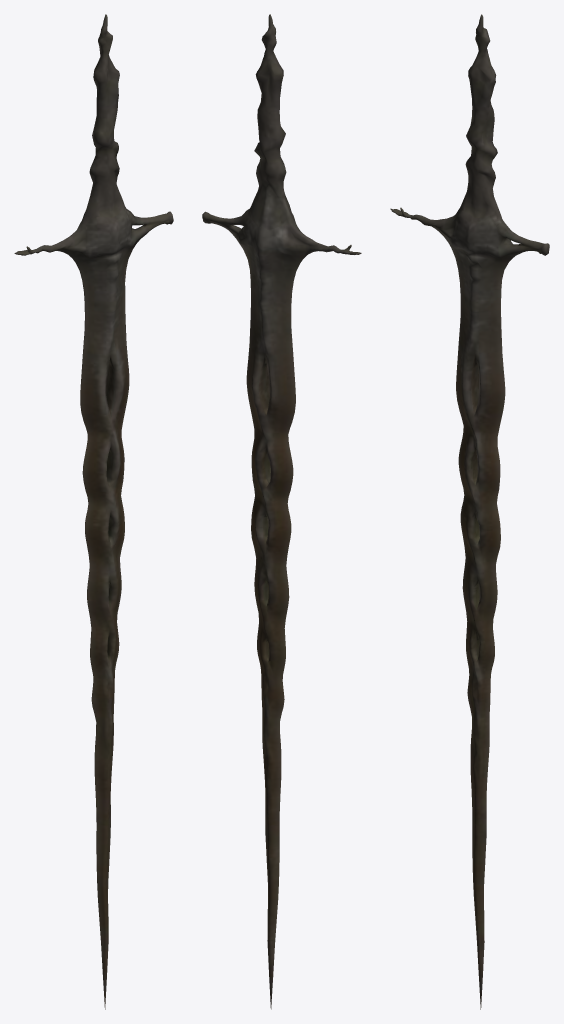
Rendered from weapon-wp_a_0618.glb.
3 views of the same model, side by side, from view 1: azimuth 30°, elevation 25°; view 2: azimuth 150°, elevation 25°; view 3: azimuth 330°, elevation 25° (orthographic).
Parts seen in each view (by area): view 1: wp_a_0618_mesh; view 2: wp_a_0618_mesh; view 3: wp_a_0618_mesh.
Part boxes in pixels (box(x1,y1,x2,y2)): wp_a_0618_mesh: box(14, 14, 173, 1009); wp_a_0618_mesh: box(202, 14, 361, 1009); wp_a_0618_mesh: box(390, 14, 549, 1009).
Bounding box in the file's own units: 0.2722 × 1.64 × 0.0734.
Materials: 1 (1 with a texture image).
